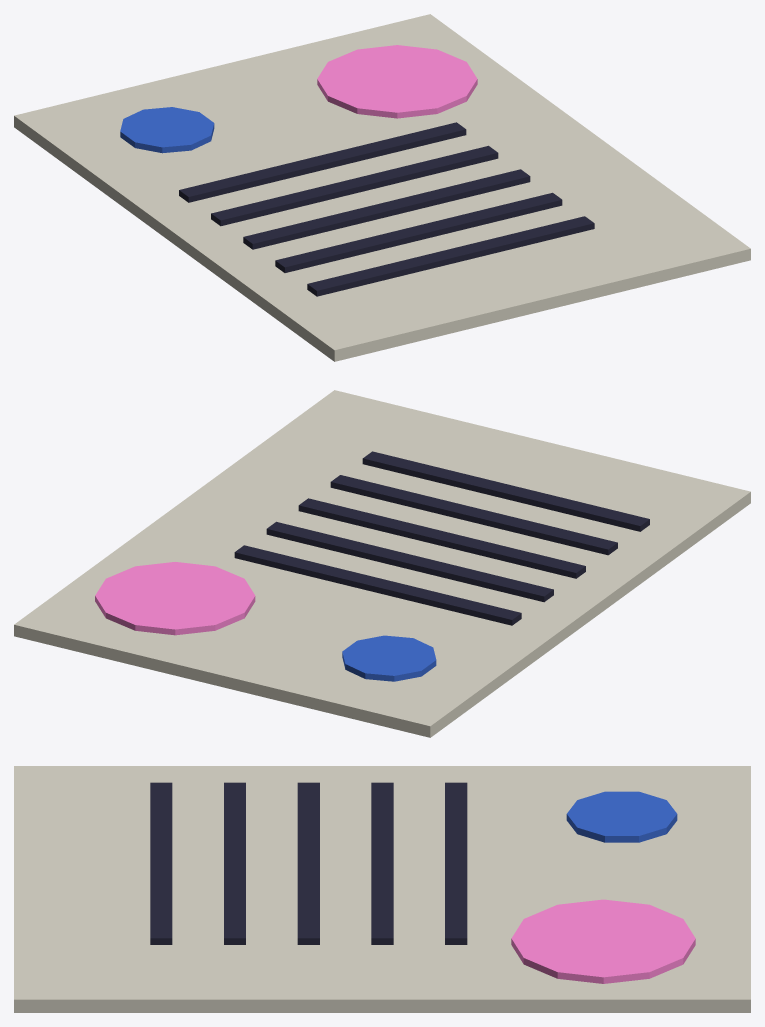
The model's file is karaoke_juice_recipe.glb.
The picture shows the model from 3 angles, top to bottom: view 1: azimuth 30°, elevation 25°; view 2: azimuth 150°, elevation 25°; view 3: azimuth 270°, elevation 25°; orthographic projection. The views are drawn at different scales.
Visible parts, largest first — view 1: paper_recipe_paper, lines_recipe_ink (×5), stain_recipe_stain, balloon_recipe_balloon; view 2: paper_recipe_paper, lines_recipe_ink (×5), stain_recipe_stain, balloon_recipe_balloon; view 3: paper_recipe_paper, lines_recipe_ink (×5), stain_recipe_stain, balloon_recipe_balloon.
Part boxes in pixels (x1,y1,x2,y2): paper_recipe_paper: (14, 14, 750, 361); lines_recipe_ink (×5): (179, 122, 594, 296); stain_recipe_stain: (317, 45, 477, 118); balloon_recipe_balloon: (120, 107, 214, 153); paper_recipe_paper: (14, 390, 750, 737); lines_recipe_ink (×5): (234, 451, 649, 625); stain_recipe_stain: (95, 562, 255, 635); balloon_recipe_balloon: (342, 635, 436, 681); paper_recipe_paper: (14, 766, 750, 1012); lines_recipe_ink (×5): (150, 782, 467, 944); stain_recipe_stain: (511, 899, 695, 983); balloon_recipe_balloon: (566, 791, 677, 842).
Bounding box in the file's own units: 0.15 × 0.006 × 0.2.
